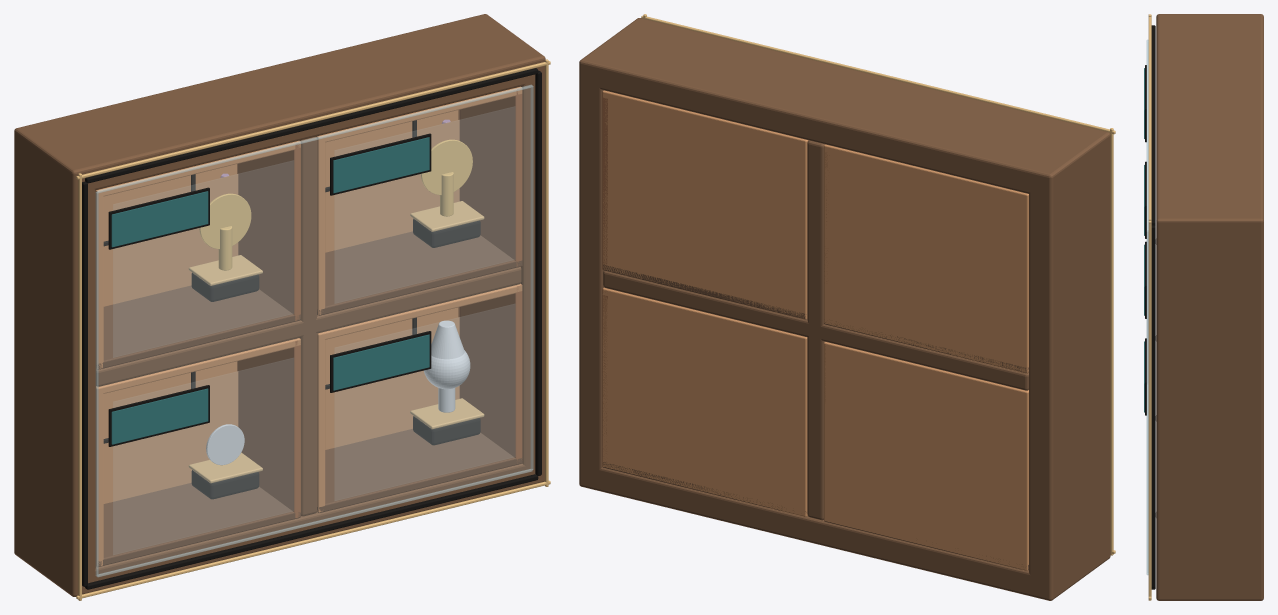
The model's file is wooden-gallery-cabinet-v4.glb.
The picture shows the model from 3 angles, left to right: view 1: azimuth 30°, elevation 25°; view 2: azimuth 150°, elevation 25°; view 3: azimuth 270°, elevation 25°; orthographic projection. The views are drawn at different scales.
Parts seen in each view (by area): view 1: front-glass-outer-pane, outer-frame-top, outer-frame-left, slot-2.front-glass-pane, slot-0.front-glass-pane, slot-3.front-glass-pane, slot-1.front-glass-pane, slot-2.back-panel, outer-frame-bottom, slot-0.floor-panel, slot-2.floor-panel, slot-1.floor-panel (+52 smaller); view 2: outer-frame-top, slot-2.back-panel, slot-0.back-panel, slot-3.back-panel, slot-1.back-panel, outer-frame-left, outer-frame-bottom, outer-frame-right, divider-horizontal-core, divider-vertical-core, brass-outer-top, brass-outer-left (+5 smaller); view 3: outer-frame-right, outer-frame-top, outer-frame-bottom, lacquer-outer-right-rib, brass-outer-right, front-glass-outer-right-edge, lacquer-outer-top-rib, outer-frame-left, brass-outer-top, front-glass-outer-top-edge, front-glass-outer-left-edge, front-glass-outer-bottom-edge.
Part boxes in pixels (left/top/right/bottom): front-glass-outer-pane: left=99, top=88, right=530, bottom=573; outer-frame-top: left=14, top=14, right=545, bottom=192; outer-frame-left: left=14, top=124, right=95, bottom=596; slot-2.front-glass-pane: left=113, top=358, right=293, bottom=554; slot-0.front-glass-pane: left=113, top=161, right=293, bottom=357; slot-3.front-glass-pane: left=335, top=304, right=514, bottom=500; slot-1.front-glass-pane: left=335, top=107, right=514, bottom=302; slot-2.back-panel: left=103, top=361, right=238, bottom=503; outer-frame-bottom: left=14, top=461, right=544, bottom=596; slot-0.floor-panel: left=96, top=285, right=300, bottom=369; slot-2.floor-panel: left=98, top=483, right=300, bottom=566; slot-1.floor-panel: left=317, top=231, right=522, bottom=315; outer-frame-top: left=580, top=18, right=1110, bottom=196; slot-2.back-panel: left=824, top=343, right=1028, bottom=570; slot-0.back-panel: left=824, top=145, right=1028, bottom=373; slot-3.back-panel: left=602, top=287, right=807, bottom=516; slot-1.back-panel: left=603, top=96, right=808, bottom=319; outer-frame-left: left=1029, top=127, right=1110, bottom=600; outer-frame-bottom: left=579, top=465, right=1110, bottom=600; outer-frame-right: left=579, top=18, right=657, bottom=490; divider-horizontal-core: left=603, top=270, right=1028, bottom=390; divider-vertical-core: left=807, top=140, right=824, bottom=520; brass-outer-top: left=641, top=15, right=1115, bottom=134; brass-outer-left: left=1110, top=128, right=1113, bottom=555; outer-frame-right: left=1156, top=210, right=1263, bottom=600; outer-frame-top: left=1156, top=14, right=1263, bottom=239; outer-frame-bottom: left=1156, top=581, right=1263, bottom=600; lacquer-outer-right-rib: left=1151, top=225, right=1155, bottom=587; brass-outer-right: left=1148, top=218, right=1151, bottom=600; front-glass-outer-right-edge: left=1146, top=230, right=1148, bottom=574; lacquer-outer-top-rib: left=1151, top=25, right=1155, bottom=225; outer-frame-left: left=1158, top=14, right=1261, bottom=22; brass-outer-top: left=1148, top=17, right=1151, bottom=223; front-glass-outer-top-edge: left=1146, top=39, right=1148, bottom=231; front-glass-outer-left-edge: left=1147, top=40, right=1148, bottom=383; front-glass-outer-bottom-edge: left=1147, top=384, right=1148, bottom=575.
Size of the model in its own units: 5.55 by 4.78 by 1.36.
